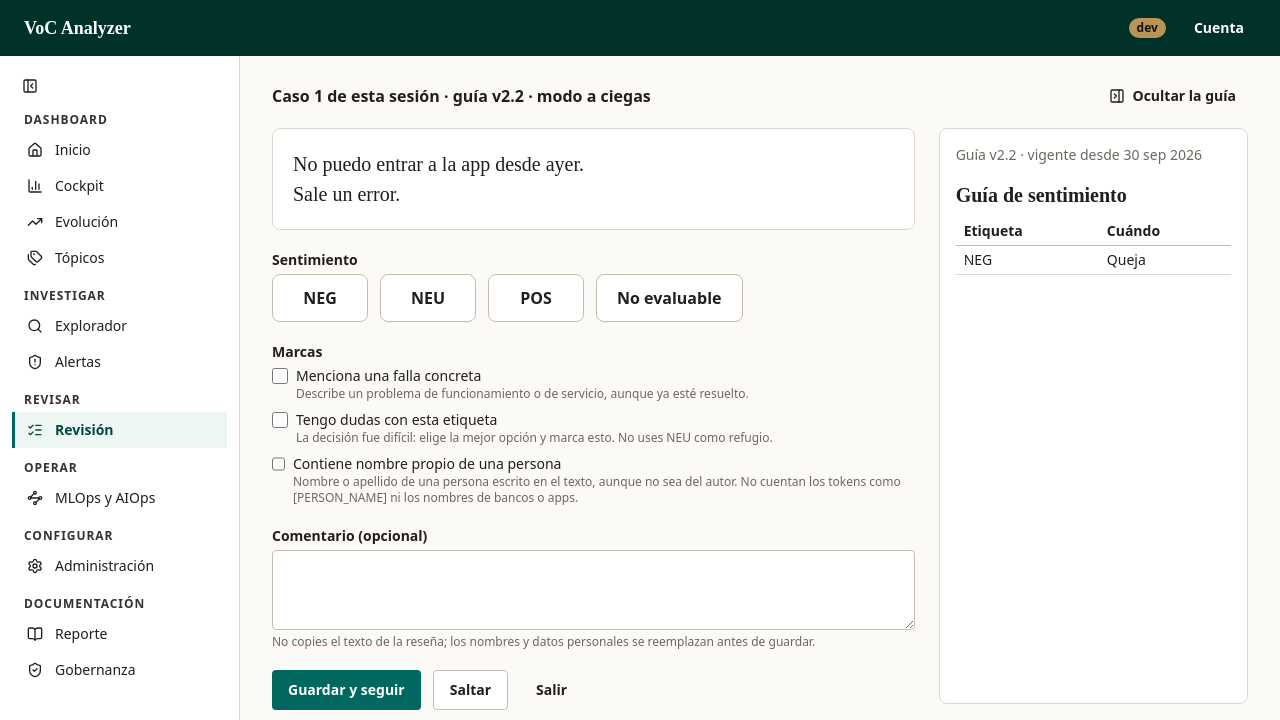
Scenario: revisión de sentimiento › un 409 con la forma clásica ofrece pedir el siguiente
This screenshot has width=1280, height=720.
Expected: the heading "Caso 1 de esta sesión · guía v2.2 · modo a ciegas" is shown, [272,84,651,108]
Step 1. Type keys "1"
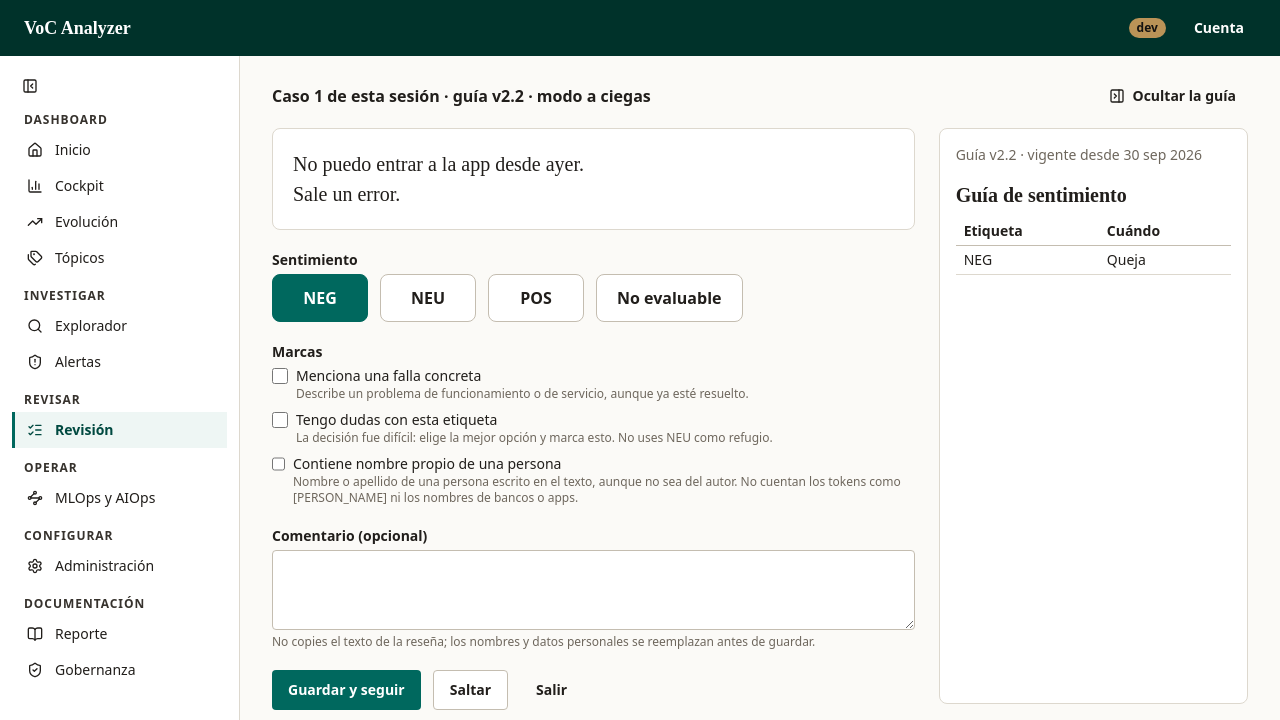
Step 2. Press Enter
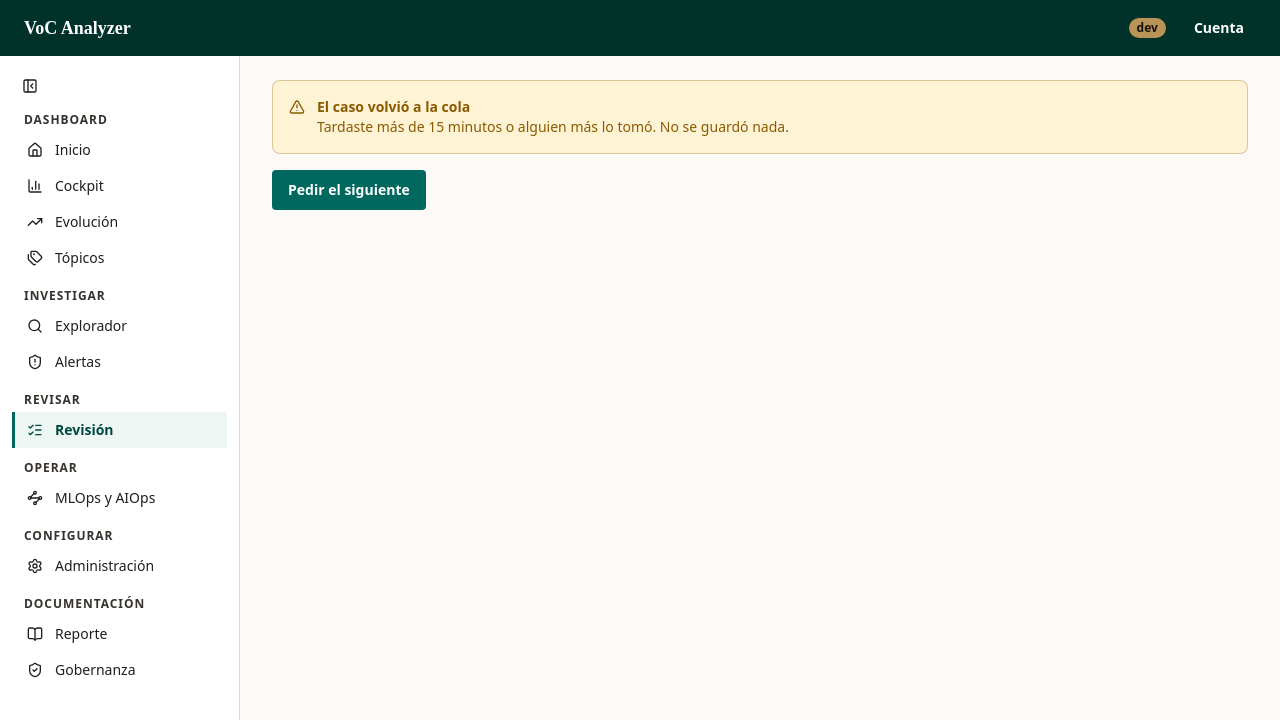
Expected: the text "El caso volvió a la cola" is shown, [317,97,470,116]
Step 3. Click the button "Pedir el siguiente" → click(349, 190), box [272,170,426,210]
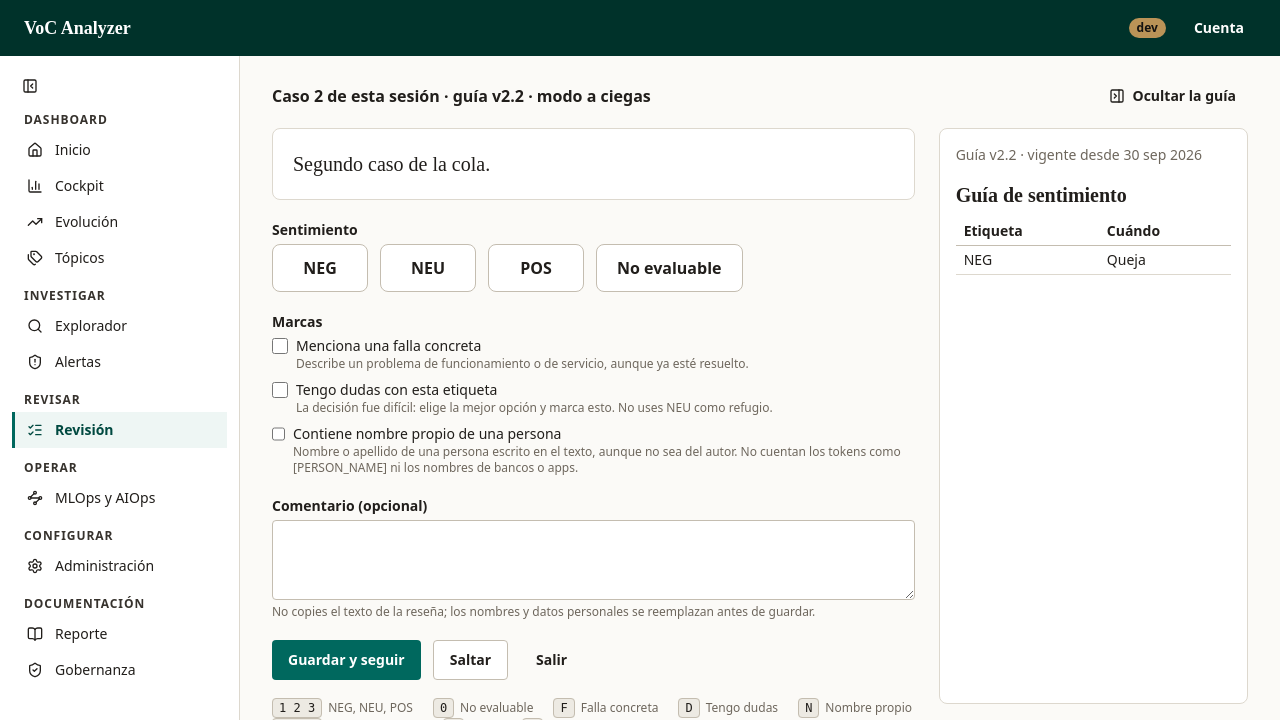
Expected: the heading "Caso 2 de esta sesión · guía v2.2 · modo a ciegas" is shown, [272,84,651,108]
